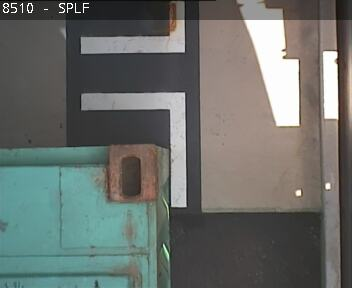groundmarker_1: (80, 1, 186, 206)
